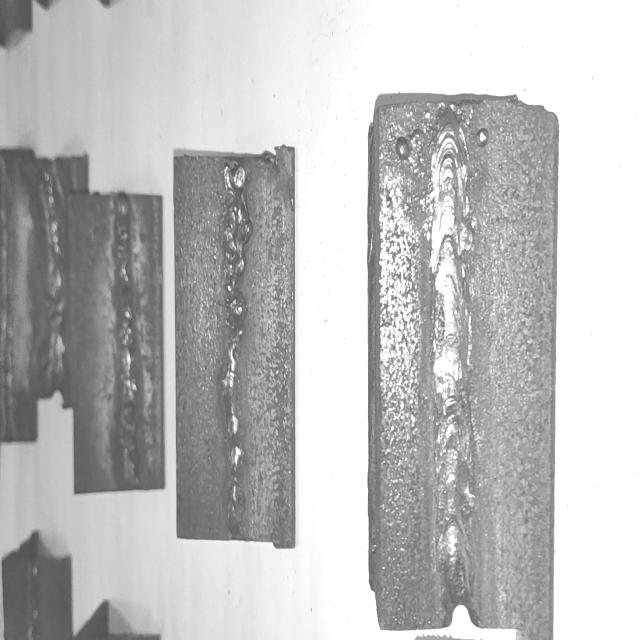Bad Weld: (219, 162, 248, 536), (113, 199, 140, 483)
Defect: (214, 339, 251, 520), (214, 171, 254, 331), (108, 212, 138, 342)
Good Weld: (432, 124, 478, 600), (40, 176, 67, 386)
